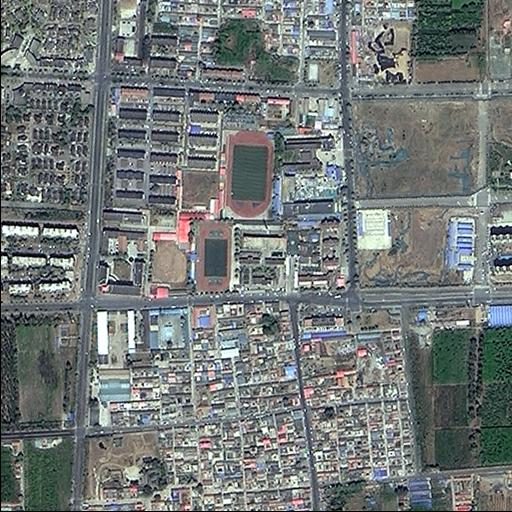school: (221, 122, 347, 225)
